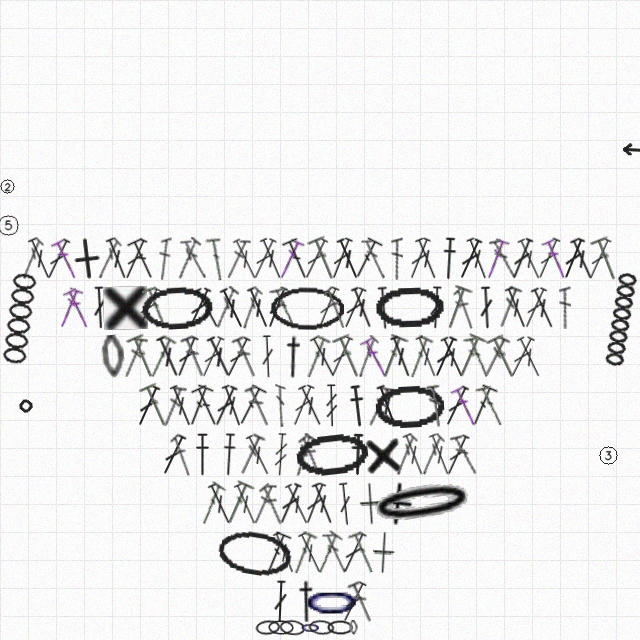chain: (366, 474, 479, 533), (215, 526, 295, 580), (293, 430, 370, 480), (140, 284, 215, 331), (373, 383, 447, 429), (270, 286, 344, 330), (374, 285, 446, 330), (302, 580, 362, 623), (100, 334, 126, 379), (279, 619, 306, 636), (308, 619, 335, 636), (255, 619, 281, 636), (268, 620, 294, 635), (327, 620, 353, 635), (300, 620, 321, 635), (349, 620, 358, 635)
double: (233, 383, 268, 429), (486, 334, 521, 380), (349, 236, 384, 282), (221, 480, 255, 527), (139, 382, 173, 429), (126, 333, 160, 380), (332, 333, 366, 380), (453, 333, 487, 380), (307, 235, 341, 282), (190, 383, 224, 429), (126, 236, 160, 282), (260, 530, 293, 576), (466, 383, 499, 429), (376, 334, 409, 380), (281, 236, 314, 282), (590, 236, 623, 282), (144, 334, 177, 379), (307, 334, 340, 379), (183, 383, 215, 429), (441, 285, 473, 331), (312, 530, 344, 575), (295, 383, 327, 428), (475, 383, 507, 428), (359, 335, 391, 379), (191, 286, 223, 330), (287, 530, 318, 575), (338, 530, 369, 575), (196, 481, 227, 526), (153, 334, 184, 379), (204, 334, 235, 379), (300, 334, 331, 379), (403, 334, 434, 379), (269, 285, 300, 330), (338, 580, 369, 624), (295, 531, 326, 575), (282, 482, 313, 526), (158, 433, 189, 477), (243, 433, 274, 477), (441, 384, 472, 428), (222, 335, 253, 379), (480, 335, 511, 379), (506, 335, 537, 379), (514, 335, 545, 379), (62, 286, 93, 330), (217, 286, 248, 330), (42, 237, 73, 281), (50, 237, 81, 281), (230, 237, 261, 281), (300, 237, 331, 281), (347, 530, 377, 575), (463, 334, 493, 379), (25, 236, 55, 281), (412, 236, 442, 281), (533, 236, 563, 281), (347, 580, 377, 624), (205, 482, 235, 526), (231, 482, 261, 526), (236, 433, 266, 477), (442, 433, 472, 477), (133, 384, 163, 428), (210, 384, 240, 428), (244, 384, 274, 428), (450, 384, 480, 428), (197, 335, 227, 379), (231, 335, 261, 379), (326, 335, 356, 379), (430, 335, 460, 379), (438, 335, 468, 379), (133, 286, 163, 330), (184, 286, 214, 330), (339, 286, 369, 330), (520, 286, 550, 330), (528, 286, 558, 330), (120, 237, 150, 281), (249, 237, 279, 281), (275, 237, 305, 281), (455, 237, 485, 281), (515, 237, 545, 281), (567, 237, 597, 281), (584, 237, 614, 281), (270, 530, 299, 575), (275, 481, 304, 526), (167, 383, 196, 428), (288, 383, 317, 428), (172, 334, 201, 379), (180, 334, 209, 379), (55, 285, 84, 330), (141, 285, 170, 330), (244, 285, 273, 330), (313, 285, 342, 330), (502, 285, 531, 330), (257, 236, 286, 281), (334, 236, 363, 281), (463, 236, 492, 281), (507, 236, 536, 281), (541, 236, 570, 281), (559, 236, 588, 281), (210, 286, 240, 329), (172, 237, 202, 280), (450, 433, 479, 477), (365, 384, 394, 428), (489, 237, 518, 281), (301, 481, 329, 526), (309, 481, 337, 526), (400, 432, 428, 477), (426, 432, 454, 477), (387, 334, 415, 379), (413, 334, 441, 379), (263, 285, 291, 330), (348, 285, 376, 330), (495, 285, 523, 330), (103, 236, 131, 281), (327, 236, 355, 281), (405, 236, 433, 281), (482, 236, 510, 281), (94, 237, 123, 280), (180, 237, 209, 280), (258, 482, 286, 526), (297, 433, 325, 477), (219, 383, 246, 428), (374, 383, 401, 428), (418, 433, 446, 476), (160, 384, 187, 428), (121, 335, 148, 379), (322, 531, 349, 574), (392, 433, 419, 476), (322, 286, 349, 329), (18, 237, 45, 280), (224, 237, 251, 280), (361, 237, 388, 280), (290, 433, 316, 477), (238, 286, 264, 330), (251, 482, 277, 525), (354, 335, 380, 378), (169, 433, 194, 477), (452, 286, 477, 330), (205, 237, 226, 281), (426, 384, 446, 428), (336, 482, 354, 526), (91, 286, 108, 329), (478, 286, 495, 329), (428, 286, 444, 329), (273, 580, 288, 623), (260, 335, 275, 378), (157, 237, 172, 280), (559, 286, 571, 329), (391, 237, 403, 280), (275, 384, 286, 427)
enseble_chain: (0, 272, 40, 367), (602, 271, 640, 369)
half_double: (280, 335, 307, 379), (294, 580, 319, 623), (347, 384, 368, 428), (374, 286, 393, 330), (220, 433, 238, 476), (349, 433, 367, 476), (440, 237, 458, 280), (194, 433, 211, 476)
noise: (597, 444, 619, 466), (0, 213, 20, 237), (0, 177, 17, 196), (17, 397, 34, 414), (620, 143, 640, 156)
single: (63, 235, 110, 282), (103, 286, 148, 330), (362, 432, 405, 477), (378, 481, 415, 527), (372, 531, 396, 575), (359, 482, 383, 526)
treble: (272, 433, 290, 476), (324, 384, 339, 427)
